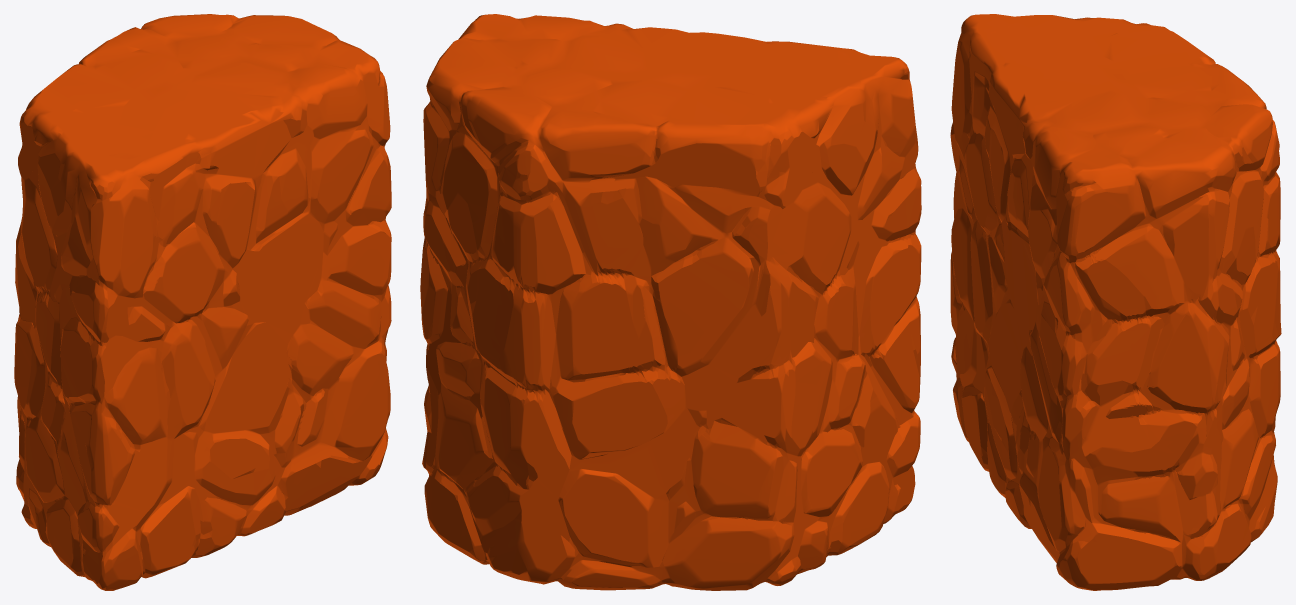
3 renders of one model, left to right at view 1: azimuth 30°, elevation 25°; view 2: azimuth 150°, elevation 25°; view 3: azimuth 270°, elevation 25°, orthographic. The views are drawn at different scales.
Visible parts, largest first — view 1: Mesh_59_LOD0; view 2: Mesh_59_LOD0; view 3: Mesh_59_LOD0.
Boxes of the visible parts, x1,y1,x2,y2 form: Mesh_59_LOD0: [14, 14, 391, 590]; Mesh_59_LOD0: [420, 14, 921, 590]; Mesh_59_LOD0: [950, 14, 1281, 590].
Size of what is drawn, in the model's own units: 4462 by 5135 by 3615.
